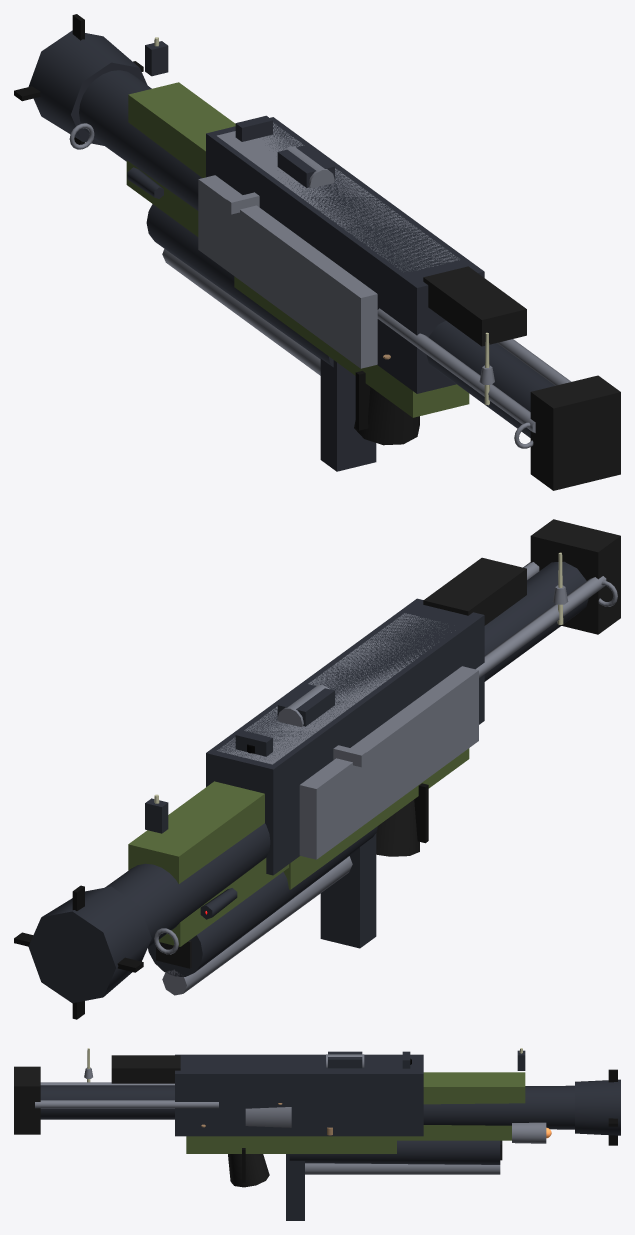
File: weaponMoritaMk.glb
The picture shows the model from 3 angles, top to bottom: view 1: azimuth 30°, elevation 25°; view 2: azimuth 150°, elevation 25°; view 3: azimuth 270°, elevation 25°; orthographic projection. The views are drawn at different scales.
Size of the model in its own units: 0.228 by 0.48 by 1.58.
